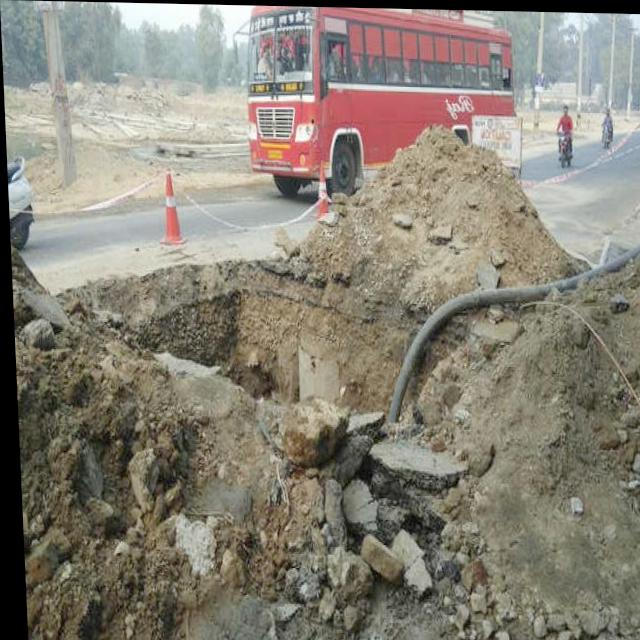leak: (120, 228, 423, 408)
